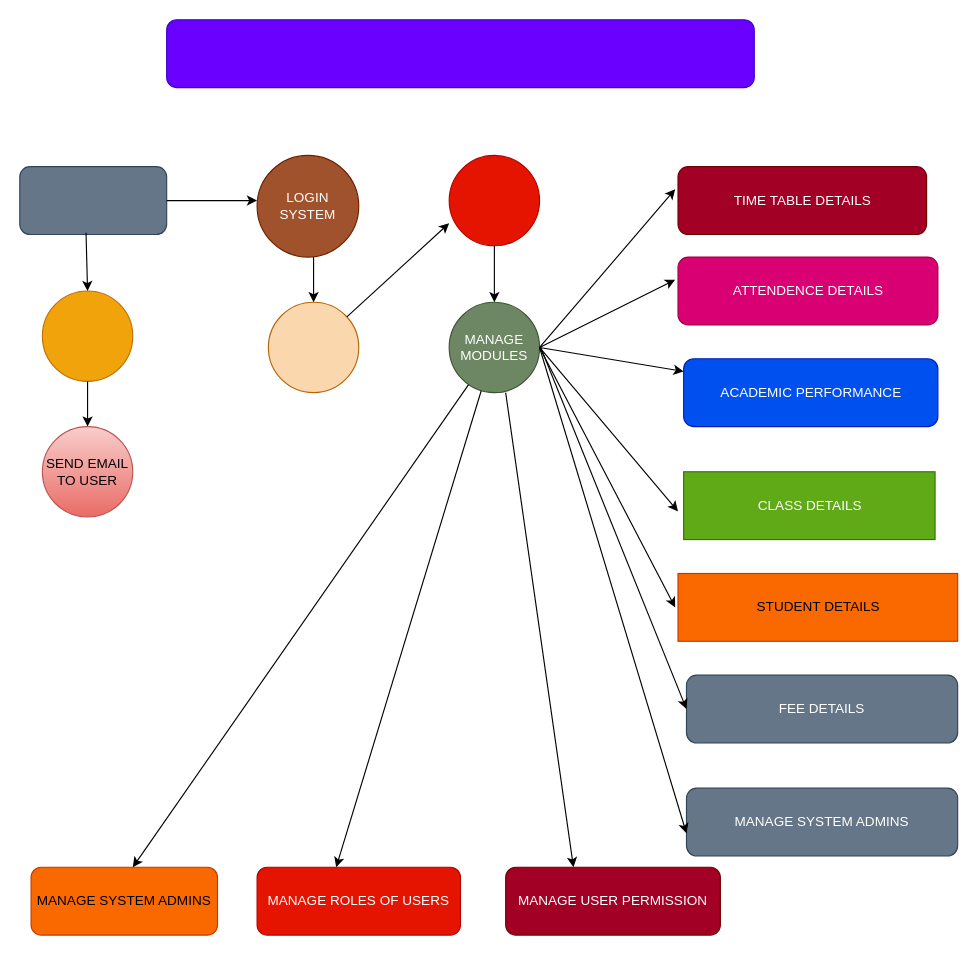
Some shapes in this 977 by 955 pixel diagram are drawn without their labels. Here are the shapes that lost their labels. From the top down, the box of each, then its label:
(166, 19, 754, 88): STUDENT INFORMATION SYSTEM
(19, 166, 167, 234): ADMIN
(448, 154, 540, 246): CHECK ROLES OF ACCESS
(41, 290, 133, 381): FORGOT PASSWORD
(267, 301, 359, 393): CHECK CREDENTIALS
